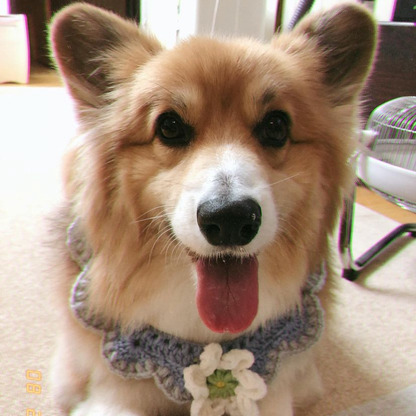Corgi: (56, 19, 381, 403)
